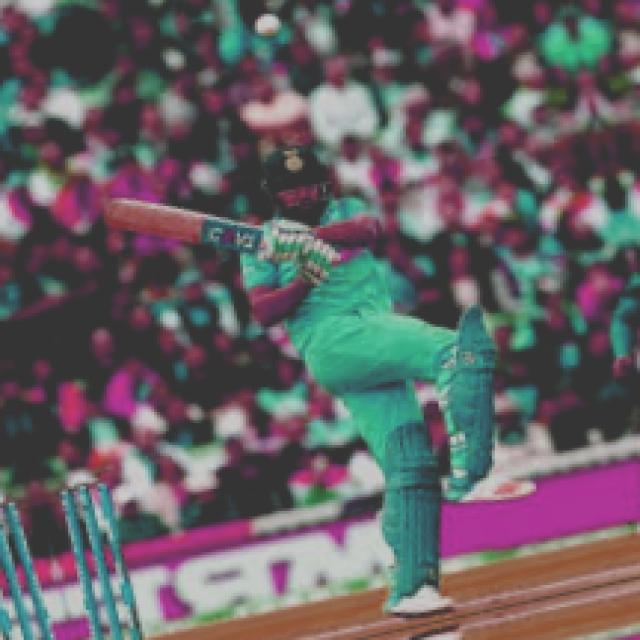toe: (104, 194, 134, 232)
